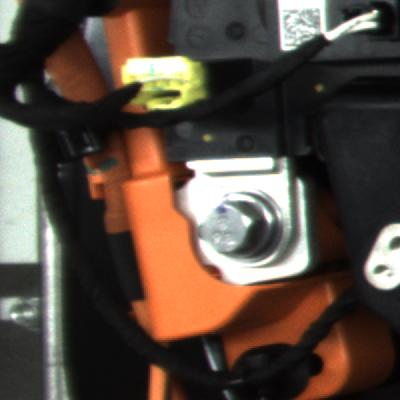nut_b: (190, 187, 301, 272)
